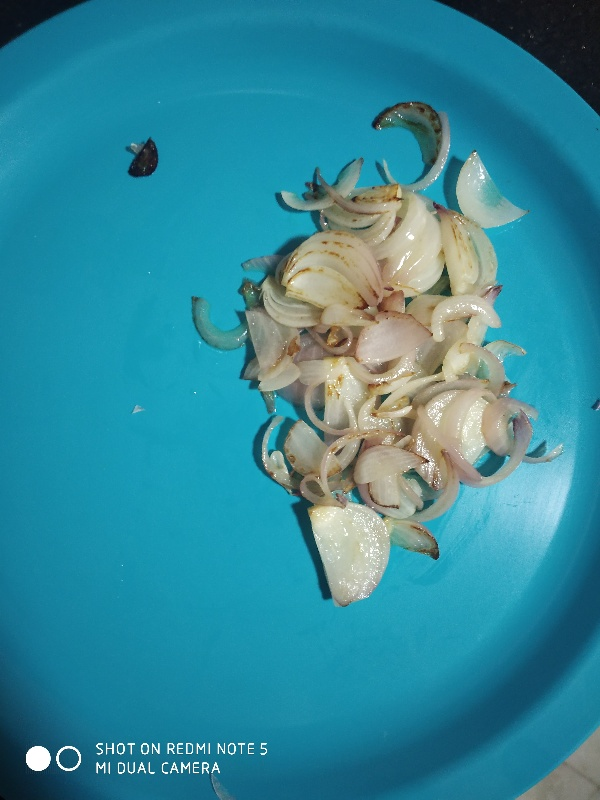onion_golden: (220, 82, 550, 602)
